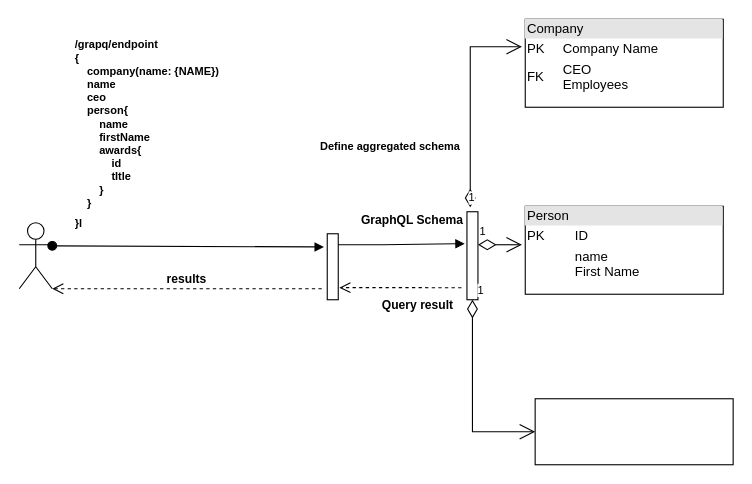
Some shapes in this 752 by 484 pixel diagram are drawn without their labels. The box of each missing label's shape, as (x1, y1, x2, y2) in pixels:
Actor: (18, 222, 52, 289)
Awards PK ID Title: (534, 398, 733, 465)
